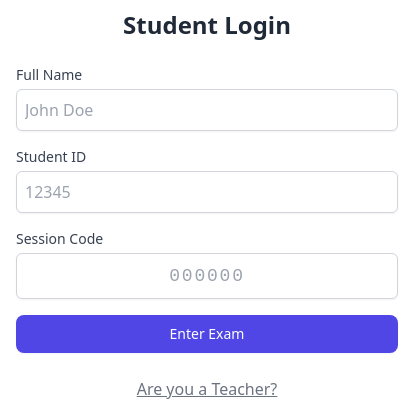
Test case: StudentLogin › should strip non-numeric characters from Session Code
The image size is (415, 416).
Type "a1b2" into the field labelled "Session Code".
click(207, 276); type("a1b2")  # box x1=16 y1=253 x2=398 y2=299
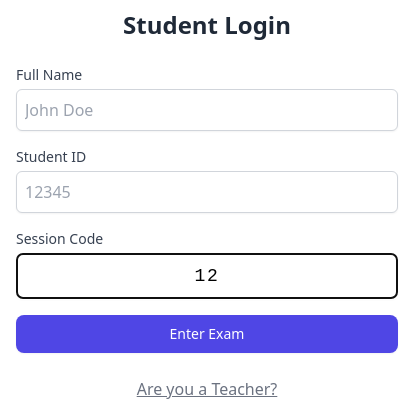
Expected: the field labelled "Session Code" holds "12", x1=16 y1=253 x2=398 y2=299
